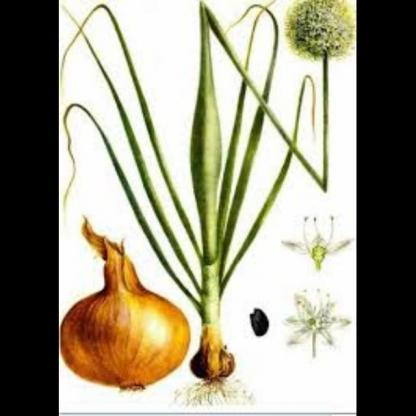onion: (60, 229, 190, 391), (176, 321, 241, 392)
